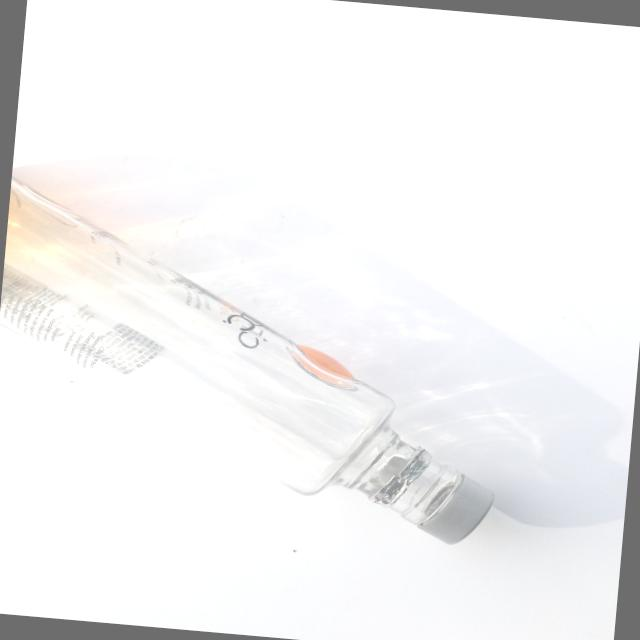Glass: (0, 168, 520, 551)
